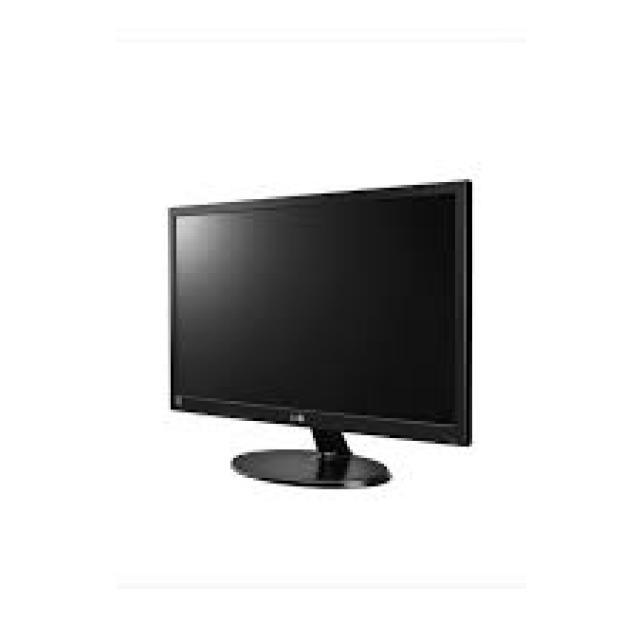monitor: (110, 167, 488, 532)
